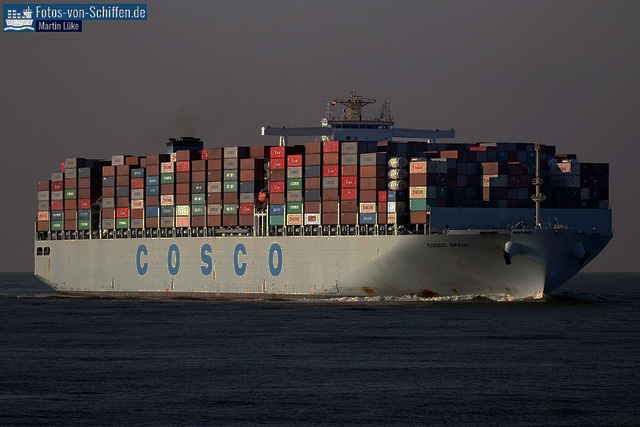container_ship: (36, 94, 619, 305)
